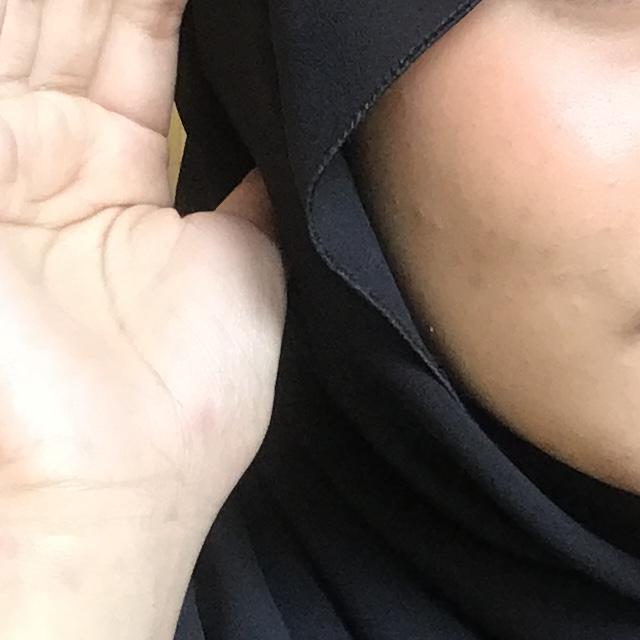mendengar: (0, 0, 330, 576)
